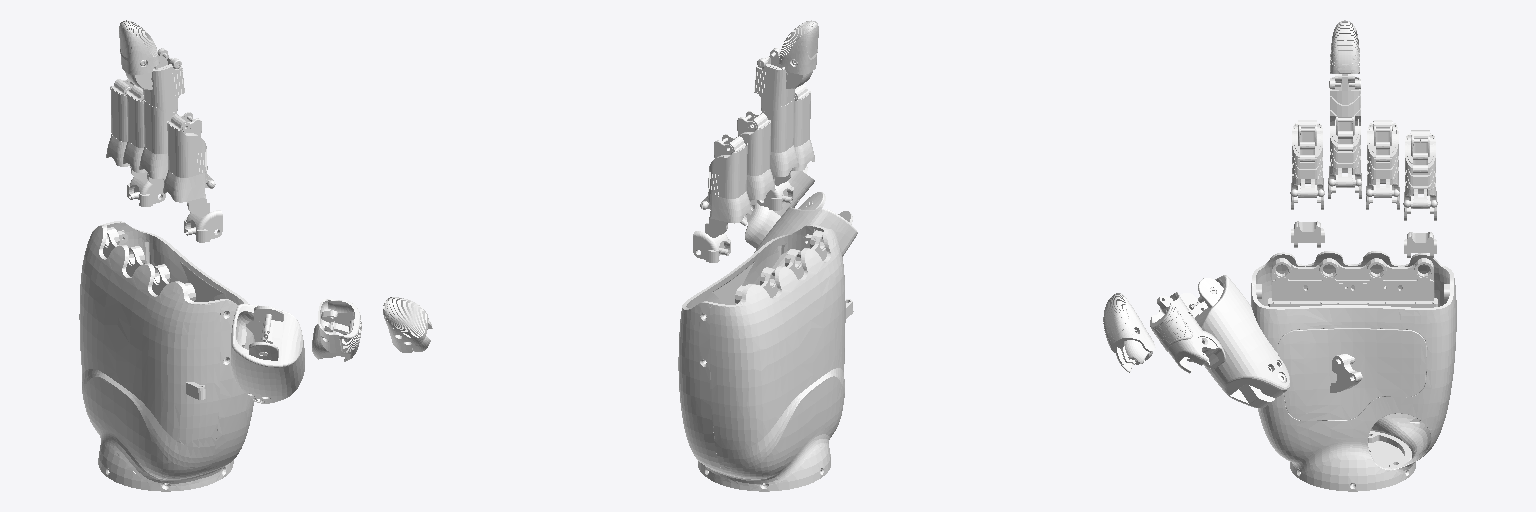
The robot description file, URDF, robot "linkerhand_l10_left.urdf":
<?xml version='1.0' encoding='utf-8'?>
<robot name="linkerhand_l10_left.urdf">
  <link name="hand_base_link">
    <inertial>
      <origin xyz="-0.00286158285153781 0.00291722319245657 0.0777013185993096" rpy="0 0 0" />
      <mass value="0.3355217742994084" />
      <inertia ixx="0.0006034278696208162" ixy="2.5945458100222196e-06" ixz="2.583441595747084e-06" iyy="0.0004288896033965287" iyz="1.1495620293769087e-05" izz="0.0002310010108567624" />
    </inertial>
    <visual>
      <origin xyz="0 0 0" rpy="0 0 0" />
      <geometry>
        <mesh filename="meshes/hand_base_link.STL" />
      </geometry>
      <material name="">
        <color rgba="1 1 1 1" />
      </material>
    </visual>
    <collision>
      <origin xyz="0 0 0" rpy="0 0 0" />
      <geometry>
        <mesh filename="meshes/hand_base_link.STL" />
      </geometry>
    </collision>
  </link>
  <link name="thumb_metacarpals_base1">
    <inertial>
      <origin xyz="0.0219046715712375 -9.48626705771921E-06 -0.00324883167123877" rpy="0 0 0" />
      <mass value="0.043216860012087376" />
      <inertia ixx="1.1574645797577225e-05" ixy="-8.984136000835386e-09" ixz="-1.1766027948925875e-06" iyy="1.6390111626656588e-05" iyz="-4.0710607121916e-09" izz="7.337029980989325e-06" />
    </inertial>
    <visual>
      <origin xyz="0 0 0" rpy="0 0 0" />
      <geometry>
        <mesh filename="meshes/thumb_metacarpals_base1.STL" />
      </geometry>
      <material name="">
        <color rgba="1 1 1 1" />
      </material>
    </visual>
    <collision>
      <origin xyz="0 0 0" rpy="0 0 0" />
      <geometry>
        <mesh filename="meshes/thumb_metacarpals_base1.STL" />
      </geometry>
    </collision>
  </link>
  <joint name="thumb_cmc_roll" type="revolute">
    <origin xyz="-0.016657 -0.018426 0.057469" rpy="0 0 0" />
    <parent link="hand_base_link" />
    <child link="thumb_metacarpals_base1" />
    <axis xyz="1 0 0" />
    <limit lower="-0.785" upper="0.785" effort="12" velocity="2.6" />
  </joint>
  <link name="thumb_metacarpals_base2">
    <inertial>
      <origin xyz="0.000798672868012509 -0.00104864337053465 -0.00114043413265499" rpy="0 0 0" />
      <mass value="0.072754681016976" />
      <inertia ixx="1.1663371590420262e-05" ixy="-2.6262973173372636e-06" ixz="1.2971095218936713e-07" iyy="9.126098693266464e-06" iyz="-2.0838721326869587e-07" izz="1.0413442973952338e-05" />
    </inertial>
    <visual>
      <origin xyz="0 0 0" rpy="0 0 0" />
      <geometry>
        <mesh filename="meshes/thumb_metacarpals_base2.STL" />
      </geometry>
      <material name="">
        <color rgba="1 1 1 1" />
      </material>
    </visual>
    <collision>
      <origin xyz="0 0 0" rpy="0 0 0" />
      <geometry>
        <mesh filename="meshes/thumb_metacarpals_base2.STL" />
      </geometry>
    </collision>
  </link>
  <joint name="thumb_cmc_yaw" type="revolute">
    <origin xyz="0.028875 0 0.0020117" rpy="0 0 0" />
    <parent link="thumb_metacarpals_base1" />
    <child link="thumb_metacarpals_base2" />
    <axis xyz="0 0 1" />
    <limit lower="0" upper="1.57" effort="12" velocity="2.6" />
  </joint>
  <link name="thumb_metacarpals">
    <inertial>
      <origin xyz="0.00175928374897715 -2.63724449372782E-05 0.0251802708036677" rpy="0 0 0" />
      <mass value="0.06657094876365299" />
      <inertia ixx="1.1160759345219712e-05" ixy="6.584642775411337e-10" ixz="-3.3307729548558715e-07" iyy="1.5079484426430938e-05" iyz="1.92880275356271e-09" izz="6.067229952497625e-06" />
    </inertial>
    <visual>
      <origin xyz="0 0 0" rpy="0 0 0" />
      <geometry>
        <mesh filename="meshes/thumb_metacarpals.STL" />
      </geometry>
      <material name="">
        <color rgba="1 1 1 1" />
      </material>
    </visual>
    <collision>
      <origin xyz="0 0 0" rpy="0 0 0" />
      <geometry>
        <mesh filename="meshes/thumb_metacarpals.STL" />
      </geometry>
    </collision>
  </link>
  <joint name="thumb_cmc_pitch" type="revolute">
    <origin xyz="0.015415 -0.024336 -0.0034929" rpy="0 -1.1075 2.1313" />
    <parent link="thumb_metacarpals_base2" />
    <child link="thumb_metacarpals" />
    <axis xyz="0 1 0" />
    <limit lower="0" upper="0.5285" effort="12" velocity="2.6" />
  </joint>
  <link name="thumb_proximal">
    <inertial>
      <origin xyz="-0.000134514693928799 -2.62245243557585E-05 0.0155657254015052" rpy="0 0 0" />
      <mass value="0.01958692569086711" />
      <inertia ixx="3.4697725304988824e-06" ixy="-3.327267347721967e-11" ixz="-4.1853839437128e-07" iyy="3.0873336668433674e-06" iyz="1.54924719843834e-10" izz="1.5346507241899612e-06" />
    </inertial>
    <visual>
      <origin xyz="0 0 0" rpy="0 0 0" />
      <geometry>
        <mesh filename="meshes/thumb_proximal.STL" />
      </geometry>
      <material name="">
        <color rgba="1 1 1 1" />
      </material>
    </visual>
    <collision>
      <origin xyz="0 0 0" rpy="0 0 0" />
      <geometry>
        <mesh filename="meshes/thumb_proximal.STL" />
      </geometry>
    </collision>
  </link>
  <joint name="thumb_mcp" type="revolute">
    <origin xyz="0.0049422 -7E-05 0.050268" rpy="0 0 0" />
    <parent link="thumb_metacarpals" />
    <child link="thumb_proximal" />
    <axis xyz="0 1 0" />
    <limit lower="0" upper="1.186" effort="12" velocity="2.6" />
    <mimic joint="thumb_cmc_pitch" multiplier="2.24" offset="0" />
  </joint>
  <link name="thumb_distal">
    <inertial>
      <origin xyz="-0.00128288196550677 -1.13361177393814E-05 0.012129617700597" rpy="0 0 0" />
      <mass value="0.02247274403982049" />
      <inertia ixx="1.331154618825e-06" ixy="-8.455169597234325e-10" ixz="-3.851470757664075e-07" iyy="1.3814467104262874e-06" iyz="-2.0836025487603863e-10" izz="1.0508245331573625e-06" />
    </inertial>
    <visual>
      <origin xyz="0 0 0" rpy="0 0 0" />
      <geometry>
        <mesh filename="meshes/thumb_distal.STL" />
      </geometry>
      <material name="">
        <color rgba="1 1 1 1" />
      </material>
    </visual>
    <collision>
      <origin xyz="0 0 0" rpy="0 0 0" />
      <geometry>
        <mesh filename="meshes/thumb_distal.STL" />
      </geometry>
    </collision>
  </link>
  <joint name="thumb_ip" type="revolute">
    <origin xyz="-0.0040391 0 0.036444" rpy="0 0 0" />
    <parent link="thumb_proximal" />
    <child link="thumb_distal" />
    <axis xyz="0 1 0" />
    <limit lower="0" upper="1.256" effort="12" velocity="2.6" />
    <mimic joint="thumb_mcp" multiplier="1.0625" offset="0" />
  </joint>
  <link name="index_metacarpals">
    <inertial>
      <origin xyz="-0.00187934702104134 -4.29029595737547E-06 0.0105055422549738" rpy="0 0 0" />
      <mass value="0.016224861657086587" />
      <inertia ixx="8.0558776707687e-07" ixy="1.8377983342295924e-09" ixz="-2.817580054008791e-08" iyy="1.2812078319531976e-06" iyz="1.69041309143604e-09" izz="1.1491271215581225e-06" />
    </inertial>
    <visual>
      <origin xyz="0 0 0" rpy="0 0 0" />
      <geometry>
        <mesh filename="meshes/index_metacarpals.STL" />
      </geometry>
      <material name="">
        <color rgba="1 1 1 1" />
      </material>
    </visual>
    <collision>
      <origin xyz="0 0 0" rpy="0 0 0" />
      <geometry>
        <mesh filename="meshes/index_metacarpals.STL" />
      </geometry>
    </collision>
  </link>
  <joint name="index_mcp_roll" type="revolute">
    <origin xyz="-0.0021544 -0.02293 0.12973" rpy="0 0 0" />
    <parent link="hand_base_link" />
    <child link="index_metacarpals" />
    <axis xyz="1 0 0" />
    <limit lower="-0.36" upper="0.36" effort="12" velocity="2.6" />
  </joint>
  <link name="index_proximal">
    <inertial>
      <origin xyz="-0.00325185842631416 -9.13142378328041E-05 0.019519432098178" rpy="0 0 0" />
      <mass value="0.011434388445128849" />
      <inertia ixx="1.0145832356510137e-06" ixy="-1.2541097740821187e-09" ixz="-1.4945477444594324e-07" iyy="9.802611013521527e-07" iyz="-5.5655019976331626e-09" izz="5.3706714356802e-07" />
    </inertial>
    <visual>
      <origin xyz="0 0 0" rpy="0 0 0" />
      <geometry>
        <mesh filename="meshes/index_proximal.STL" />
      </geometry>
      <material name="">
        <color rgba="1 1 1 1" />
      </material>
    </visual>
    <collision>
      <origin xyz="0 0 0" rpy="0 0 0" />
      <geometry>
        <mesh filename="meshes/index_proximal.STL" />
      </geometry>
    </collision>
  </link>
  <joint name="index_mcp_pitch" type="revolute">
    <origin xyz="0.0010315 -3.0579E-05 0.017575" rpy="0 0 0" />
    <parent link="index_metacarpals" />
    <child link="index_proximal" />
    <axis xyz="0 1 0.0017399" />
    <limit lower="0" upper="1.325" effort="12" velocity="2.6" />
  </joint>
  <link name="index_middle">
    <inertial>
      <origin xyz="-0.0022016660809888 0.000323491615300016 0.0115249841516604" rpy="0 0 0" />
      <mass value="0.012218483381070486" />
      <inertia ixx="1.0683874793410237e-06" ixy="7.461942934849201e-09" ixz="-1.6732585065956776e-07" iyy="9.760136772745162e-07" iyz="-1.8556885538097564e-08" izz="4.997142729361838e-07" />
    </inertial>
    <visual>
      <origin xyz="0 0 0" rpy="0 0 0" />
      <geometry>
        <mesh filename="meshes/index_middle.STL" />
      </geometry>
      <material name="">
        <color rgba="1 1 1 1" />
      </material>
    </visual>
    <collision>
      <origin xyz="0 0 0" rpy="0 0 0" />
      <geometry>
        <mesh filename="meshes/index_middle.STL" />
      </geometry>
    </collision>
  </link>
  <joint name="index_pip" type="revolute">
    <origin xyz="-0.0033727 -5.8304E-05 0.033509" rpy="0 0 0" />
    <parent link="index_proximal" />
    <child link="index_middle" />
    <axis xyz="0 1 0.0017399" />
    <limit lower="0" upper="1.57" effort="12" velocity="2.6" />
    <mimic joint="index_mcp_pitch" multiplier="1.18" offset="0" />
  </joint>
  <link name="index_distal">
    <inertial>
      <origin xyz="0.000205178160330333 2.97745761116885E-05 0.0116641281851965" rpy="0 0 0" />
      <mass value="0.014509336799106001" />
      <inertia ixx="7.991034257248725e-07" ixy="1.9464314592614288e-09" ixz="-1.6209871504956675e-07" iyy="7.765077151425788e-07" iyz="-1.1850354848977276e-08" izz="4.5115066690793625e-07" />
    </inertial>
    <visual>
      <origin xyz="0 0 0" rpy="0 0 0" />
      <geometry>
        <mesh filename="meshes/index_distal.STL" />
      </geometry>
      <material name="">
        <color rgba="1 1 1 1" />
      </material>
    </visual>
    <collision>
      <origin xyz="0 0 0" rpy="0 0 0" />
      <geometry>
        <mesh filename="meshes/index_distal.STL" />
      </geometry>
    </collision>
  </link>
  <joint name="index_dip" type="revolute">
    <origin xyz="-0.0050438 -4.4805E-05 0.025751" rpy="0 0 0" />
    <parent link="index_middle" />
    <child link="index_distal" />
    <axis xyz="0 1 0.0017399" />
    <limit lower="0" upper="1" effort="12" velocity="2.6" />
    <mimic joint="index_pip" multiplier="0.635" offset="0" />
  </joint>
  <link name="middle_proximal">
    <inertial>
      <origin xyz="-0.00325186288011926 -5.73454604718832E-05 0.0195195889004557" rpy="0 0 0" />
      <mass value="0.01143437156151015" />
      <inertia ixx="1.0145776920273975e-06" ixy="-1.51391940486027e-09" ixz="-1.4945172673068563e-07" iyy="9.802739948415826e-07" iyz="-4.79580838155705e-09" izz="5.370488365697888e-07" />
    </inertial>
    <visual>
      <origin xyz="0 0 0" rpy="0 0 0" />
      <geometry>
        <mesh filename="meshes/middle_proximal.STL" />
      </geometry>
      <material name="">
        <color rgba="1 1 1 1" />
      </material>
    </visual>
    <collision>
      <origin xyz="0 0 0" rpy="0 0 0" />
      <geometry>
        <mesh filename="meshes/middle_proximal.STL" />
      </geometry>
    </collision>
  </link>
  <joint name="middle_mcp_pitch" type="revolute">
    <origin xyz="-0.0031229 -0.0039297 0.1523" rpy="0 0 0" />
    <parent link="hand_base_link" />
    <child link="middle_proximal" />
    <axis xyz="0 1 0" />
    <limit lower="0" upper="1.325" effort="12" velocity="2.6" />
  </joint>
  <link name="middle_middle">
    <inertial>
      <origin xyz="-0.00220166609150478 0.000343543558963093 0.0115244040473821" rpy="0 0 0" />
      <mass value="0.012218483571112725" />
      <inertia ixx="1.068387495358361e-06" ixy="7.170795464411775e-09" ixz="-1.6733858218132874e-07" iyy="9.760768097219475e-07" iyz="-1.7728053600423598e-08" izz="4.996511408980763e-07" />
    </inertial>
    <visual>
      <origin xyz="0 0 0" rpy="0 0 0" />
      <geometry>
        <mesh filename="meshes/middle_middle.STL" />
      </geometry>
      <material name="">
        <color rgba="1 1 1 1" />
      </material>
    </visual>
    <collision>
      <origin xyz="0 0 0" rpy="0 0 0" />
      <geometry>
        <mesh filename="meshes/middle_middle.STL" />
      </geometry>
    </collision>
  </link>
  <joint name="middle_pip" type="revolute">
    <origin xyz="-0.0033727 0 0.03351" rpy="0 0 0" />
    <parent link="middle_proximal" />
    <child link="middle_middle" />
    <axis xyz="0 1 0" />
    <limit lower="0" upper="1.57" effort="12" velocity="2.6" />
    <mimic joint="middle_mcp_pitch" multiplier="1.18" offset="0" />
  </joint>
  <link name="middle_distal">
    <inertial>
      <origin xyz="0.000205178002779471 5.00684870747489E-05 0.0116640595818044" rpy="0 0 0" />
      <mass value="0.014509336060454212" />
      <inertia ixx="7.99103494186095e-07" ixy="1.6644075854798023e-09" ixz="-1.62101880036297e-07" iyy="7.765480201542825e-07" iyz="-1.1284283654957438e-08" izz="4.511104435724625e-07" />
    </inertial>
    <visual>
      <origin xyz="0 0 0" rpy="0 0 0" />
      <geometry>
        <mesh filename="meshes/middle_distal.STL" />
      </geometry>
      <material name="">
        <color rgba="1 1 1 1" />
      </material>
    </visual>
    <collision>
      <origin xyz="0 0 0" rpy="0 0 0" />
      <geometry>
        <mesh filename="meshes/middle_distal.STL" />
      </geometry>
    </collision>
  </link>
  <joint name="middle_dip" type="revolute">
    <origin xyz="-0.0050438 0 0.025752" rpy="0 0 0" />
    <parent link="middle_middle" />
    <child link="middle_distal" />
    <axis xyz="0 1 0" />
    <limit lower="0" upper="1" effort="12" velocity="2.6" />
    <mimic joint="middle_pip" multiplier="0.635" offset="0" />
  </joint>
  <link name="ring_metacarpals">
    <inertial>
      <origin xyz="-0.00187934628453409 6.28915481682354E-05 0.01050535483118" rpy="0 0 0" />
      <mass value="0.016224861826704375" />
      <inertia ixx="8.0558777445087e-07" ixy="1.6576144109981775e-09" ixz="-2.818699813825459e-08" iyy="1.2811809055950375e-06" iyz="2.5348853775173285e-09" izz="1.149154228484606e-06" />
    </inertial>
    <visual>
      <origin xyz="0 0 0" rpy="0 0 0" />
      <geometry>
        <mesh filename="meshes/ring_metacarpals.STL" />
      </geometry>
      <material name="">
        <color rgba="1 1 1 1" />
      </material>
    </visual>
    <collision>
      <origin xyz="0 0 0" rpy="0 0 0" />
      <geometry>
        <mesh filename="meshes/ring_metacarpals.STL" />
      </geometry>
    </collision>
  </link>
  <joint name="ring_mcp_roll" type="revolute">
    <origin xyz="-0.0021544 0.01507 0.12973" rpy="0 0 0" />
    <parent link="hand_base_link" />
    <child link="ring_metacarpals" />
    <axis xyz="1 0 0" />
    <limit lower="-0.36" upper="0.36" effort="12" velocity="2.6" />
  </joint>
  <link name="ring_proximal">
    <inertial>
      <origin xyz="-0.00325187412247893 3.35367654908103E-05 0.0195197185420488" rpy="0 0 0" />
      <mass value="0.011434328218145325" />
      <inertia ixx="1.0145627036440988e-06" ixy="-2.208986407970441e-09" ixz="-1.4944134457087498e-07" iyy="9.802951610013824e-07" iyz="-2.7363971232884886e-09" izz="5.370130646189587e-07" />
    </inertial>
    <visual>
      <origin xyz="0 0 0" rpy="0 0 0" />
      <geometry>
        <mesh filename="meshes/ring_proximal.STL" />
      </geometry>
      <material name="">
        <color rgba="1 1 1 1" />
      </material>
    </visual>
    <collision>
      <origin xyz="0 0 0" rpy="0 0 0" />
      <geometry>
        <mesh filename="meshes/ring_proximal.STL" />
      </geometry>
    </collision>
  </link>
  <joint name="ring_mcp_pitch" type="revolute">
    <origin xyz="0.0010315 8.1812E-05 0.017575" rpy="0 0 0" />
    <parent link="ring_metacarpals" />
    <child link="ring_proximal" />
    <axis xyz="0 0.99999 0.004655" />
    <limit lower="0" upper="1.325" effort="12" velocity="2.6" />
  </joint>
  <link name="ring_middle">
    <inertial>
      <origin xyz="-0.00220166566802396 0.0003971864509561 0.0115226809862077" rpy="0 0 0" />
      <mass value="0.012218485156099463" />
      <inertia ixx="1.0683875734537313e-06" ixy="6.3917456478722626e-09" ixz="-1.6737017512398825e-07" iyy="9.76231589018535e-07" iyz="-1.550953559747006e-08" izz="4.994964896570513e-07" />
    </inertial>
    <visual>
      <origin xyz="0 0 0" rpy="0 0 0" />
      <geometry>
        <mesh filename="meshes/ring_middle.STL" />
      </geometry>
      <material name="">
        <color rgba="1 1 1 1" />
      </material>
    </visual>
    <collision>
      <origin xyz="0 0 0" rpy="0 0 0" />
      <geometry>
        <mesh filename="meshes/ring_middle.STL" />
      </geometry>
    </collision>
  </link>
  <joint name="ring_pip" type="revolute">
    <origin xyz="-0.0033727 0.00015599 0.033509" rpy="0 0 0" />
    <parent link="ring_proximal" />
    <child link="ring_middle" />
    <axis xyz="0 0.99999 -0.004655" />
    <limit lower="0" upper="1.57" effort="12" velocity="2.6" />
    <mimic joint="ring_mcp_pitch" multiplier="1.18" offset="0" />
  </joint>
  <link name="ring_distal">
    <inertial>
      <origin xyz="0.00020517760398206 0.000104362588540907 0.0116637013134471" rpy="0 0 0" />
      <mass value="0.014509335448655588" />
      <inertia ixx="7.991035897706663e-07" ixy="9.099023825169151e-10" ixz="-1.6210769709474564e-07" iyy="7.766461271067113e-07" iyz="-9.769082387474625e-09" izz="4.5101234324468245e-07" />
    </inertial>
    <visual>
      <origin xyz="0 0 0" rpy="0 0 0" />
      <geometry>
        <mesh filename="meshes/ring_distal.STL" />
      </geometry>
      <material name="">
        <color rgba="1 1 1 1" />
      </material>
    </visual>
    <collision>
      <origin xyz="0 0 0" rpy="0 0 0" />
      <geometry>
        <mesh filename="meshes/ring_distal.STL" />
      </geometry>
    </collision>
  </link>
  <joint name="ring_dip" type="revolute">
    <origin xyz="-0.0050438 0.00011987 0.025751" rpy="0 0 0" />
    <parent link="ring_middle" />
    <child link="ring_distal" />
    <axis xyz="0 0.99999 0.004655" />
    <limit lower="0" upper="1" effort="12" velocity="2.6" />
    <mimic joint="ring_pip" multiplier="0.635" offset="0" />
  </joint>
  <link name="pinky_metacarpals">
    <inertial>
      <origin xyz="-0.00187934584633366 9.14587641305045E-05 0.0105051449327144" rpy="0 0 0" />
      <mass value="0.01622486185826846" />
      <inertia ixx="8.055877760354588e-07" ixy="1.580978999260455e-09" ixz="-2.8191413006936475e-08" iyy="1.2811661928912075e-06" iyz="2.8938639760594312e-09" izz="1.1491690360812113e-06" />
    </inertial>
    <visual>
      <origin xyz="0 0 0" rpy="0 0 0" />
      <geometry>
        <mesh filename="meshes/pinky_metacarpals.STL" />
      </geometry>
      <material name="">
        <color rgba="1 1 1 1" />
      </material>
    </visual>
    <collision>
      <origin xyz="0 0 0" rpy="0 0 0" />
      <geometry>
        <mesh filename="meshes/pinky_metacarpals.STL" />
      </geometry>
    </collision>
  </link>
  <joint name="pinky_mcp_roll" type="revolute">
    <origin xyz="-0.00015438 0.03407 0.12473" rpy="0 0 0" />
    <parent link="hand_base_link" />
    <child link="pinky_metacarpals" />
    <axis xyz="1 0 0" />
    <limit lower="-0.36" upper="0.36" effort="12" velocity="2.6" />
  </joint>
  <link name="pinky_proximal">
    <inertial>
      <origin xyz="-0.00325188069079595 8.66277107426164E-05 0.0195195983618728" rpy="0 0 0" />
      <mass value="0.011434302908387288" />
      <inertia ixx="1.0145539577295488e-06" ixy="-2.6149926159884515e-09" ixz="-1.494337859823311e-07" iyy="9.802986867926886e-07" iyz="-1.5332940100896112e-09" izz="5.370010166208637e-07" />
    </inertial>
    <visual>
      <origin xyz="0 0 0" rpy="0 0 0" />
      <geometry>
        <mesh filename="meshes/pinky_proximal.STL" />
      </geometry>
      <material name="">
        <color rgba="1 1 1 1" />
      </material>
    </visual>
    <collision>
      <origin xyz="0 0 0" rpy="0 0 0" />
      <geometry>
        <mesh filename="meshes/pinky_proximal.STL" />
      </geometry>
    </collision>
  </link>
  <joint name="pinky_mcp_pitch" type="revolute">
    <origin xyz="0.0010315 0.0001296 0.017575" rpy="0 0 0" />
    <parent link="pinky_metacarpals" />
    <child link="pinky_proximal" />
    <axis xyz="0 0.99997 0.0073743" />
    <limit lower="0" upper="1.325" effort="12" velocity="2.6" />
  </joint>
  <link name="pinky_middle">
    <inertial>
      <origin xyz="-0.00220166565850555 0.000428518931293857 0.0115215583189701" rpy="0 0 0" />
      <mass value="0.012218485199683349" />
      <inertia ixx="1.0683875758478289e-06" ixy="5.9365875265233376e-09" ixz="-1.6738693800481951e-07" iyy="9.763124152716262e-07" iyz="-1.4212912019423661e-08" izz="4.994156657049562e-07" />
    </inertial>
    <visual>
      <origin xyz="0 0 0" rpy="0 0 0" />
      <geometry>
        <mesh filename="meshes/pinky_middle.STL" />
      </geometry>
      <material name="">
        <color rgba="1 1 1 1" />
      </material>
    </visual>
    <collision>
      <origin xyz="0 0 0" rpy="0 0 0" />
      <geometry>
        <mesh filename="meshes/pinky_middle.STL" />
      </geometry>
    </collision>
  </link>
  <joint name="pinky_pip" type="revolute">
    <origin xyz="-0.0033727 0.00024711 0.033509" rpy="0 0 0" />
    <parent link="pinky_proximal" />
    <child link="pinky_middle" />
    <axis xyz="0 0.99997 -0.0073743" />
    <limit lower="0" upper="1.57" effort="12" velocity="2.6" />
    <mimic joint="pinky_mcp_pitch" multiplier="1.18" offset="0" />
  </joint>
  <link name="pinky_distal">
    <inertial>
      <origin xyz="0.00020517666108498 0.00013607814642172 0.0116633786905161" rpy="0 0 0" />
      <mass value="0.014509341713357138" />
      <inertia ixx="7.991040144036225e-07" ixy="4.6910343585054e-10" ixz="-1.6210978417854824e-07" iyy="7.766972783161012e-07" iyz="-8.883595821726824e-09" izz="4.5096160321433253e-07" />
    </inertial>
    <visual>
      <origin xyz="0 0 0" rpy="0 0 0" />
      <geometry>
        <mesh filename="meshes/pinky_distal.STL" />
      </geometry>
      <material name="">
        <color rgba="1 1 1 1" />
      </material>
    </visual>
    <collision>
      <origin xyz="0 0 0" rpy="0 0 0" />
      <geometry>
        <mesh filename="meshes/pinky_distal.STL" />
      </geometry>
    </collision>
  </link>
  <joint name="pinky_dip" type="revolute">
    <origin xyz="-0.0050438 0.0001899 0.025751" rpy="0 0 0" />
    <parent link="pinky_middle" />
    <child link="pinky_distal" />
    <axis xyz="0 0.99997 0.0073743" />
    <limit lower="0" upper="1" effort="12" velocity="2.6" />
    <mimic joint="pinky_pip" multiplier="0.635" offset="0" />
  </joint>
</robot>

--- Facts derived from the render (not from the file) ---
The picture shows the robot from 3 angles, left to right: view 1: azimuth 30°, elevation 25°; view 2: azimuth 150°, elevation 25°; view 3: azimuth 270°, elevation 25°; orthographic projection.
Robot: linkerhand_l10_left.urdf — 21 links, 20 joints (20 revolute); root link hand_base_link; default pose: all joints at 0.
Visible links, largest first — view 1: hand_base_link, thumb_metacarpals, index_proximal, thumb_proximal, thumb_distal, middle_distal, middle_proximal, middle_middle, pinky_proximal, ring_proximal, index_metacarpals, pinky_metacarpals; view 2: hand_base_link, pinky_proximal, thumb_metacarpals, ring_proximal, middle_distal, middle_proximal, thumb_proximal, middle_middle, index_proximal, pinky_metacarpals, index_metacarpals; view 3: hand_base_link, thumb_metacarpals, thumb_proximal, ring_proximal, pinky_proximal, thumb_distal, index_proximal, middle_proximal, middle_distal, middle_middle, thumb_metacarpals_base2, index_metacarpals (+1 smaller).
Link boxes in pixels (x1,y1,x2,y2): hand_base_link: [79, 221, 254, 491]; thumb_metacarpals: [231, 304, 304, 403]; index_proximal: [163, 112, 215, 213]; thumb_proximal: [312, 299, 361, 361]; thumb_distal: [383, 297, 432, 352]; middle_distal: [119, 20, 159, 89]; middle_proximal: [139, 99, 178, 182]; middle_middle: [143, 48, 184, 120]; pinky_proximal: [106, 79, 146, 178]; ring_proximal: [123, 85, 162, 184]; index_metacarpals: [184, 203, 222, 242]; pinky_metacarpals: [127, 175, 165, 206]; hand_base_link: [678, 224, 845, 491]; pinky_proximal: [700, 134, 751, 234]; thumb_metacarpals: [754, 192, 857, 268]; ring_proximal: [736, 111, 775, 204]; middle_distal: [779, 20, 818, 88]; middle_proximal: [761, 98, 798, 182]; thumb_proximal: [740, 166, 814, 248]; middle_middle: [754, 48, 794, 117]; index_proximal: [775, 84, 814, 182]; pinky_metacarpals: [693, 223, 730, 262]; index_metacarpals: [757, 179, 793, 210]; hand_base_link: [1251, 251, 1456, 491]; thumb_metacarpals: [1180, 275, 1289, 408]; thumb_proximal: [1150, 292, 1225, 373]; ring_proximal: [1366, 120, 1399, 209]; pinky_proximal: [1403, 130, 1437, 220]; thumb_distal: [1103, 293, 1155, 372]; index_proximal: [1290, 120, 1324, 209]; middle_proximal: [1328, 116, 1361, 198]; middle_distal: [1330, 20, 1359, 90]; middle_middle: [1329, 76, 1360, 125]; thumb_metacarpals_base2: [1330, 354, 1362, 392]; index_metacarpals: [1291, 221, 1324, 247].
Bounding box of the posed robot: 0.1132 × 0.179 × 0.2369 m (x, y, z).
Meshes: 21 distinct files referenced, 14 mesh visuals loaded (14 binary STL); not drawn: 7 (reference not matched to a file when rendering).